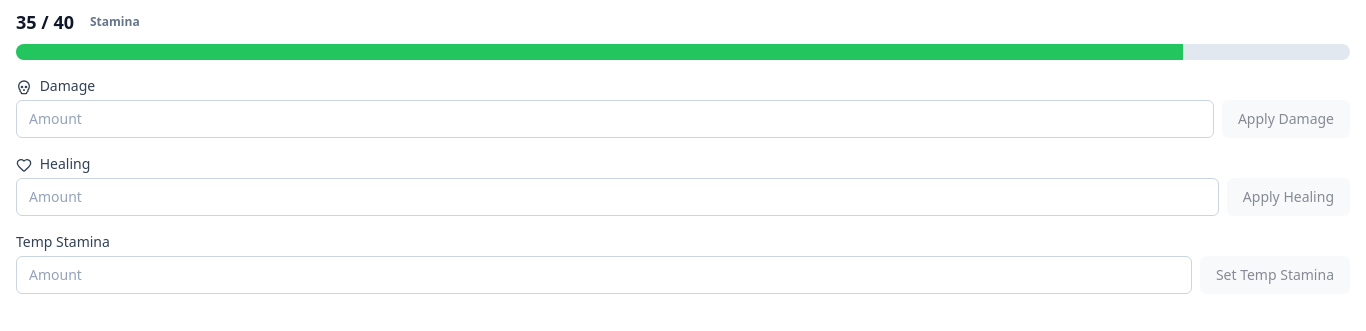
Test: HpTracker Component - Edge Cases › should prevent healing above max HP preview
The width and height of the screenshot is (1366, 331).
In the number field labelled "Healing": (617, 197) [16,178,1219,216], type "20"
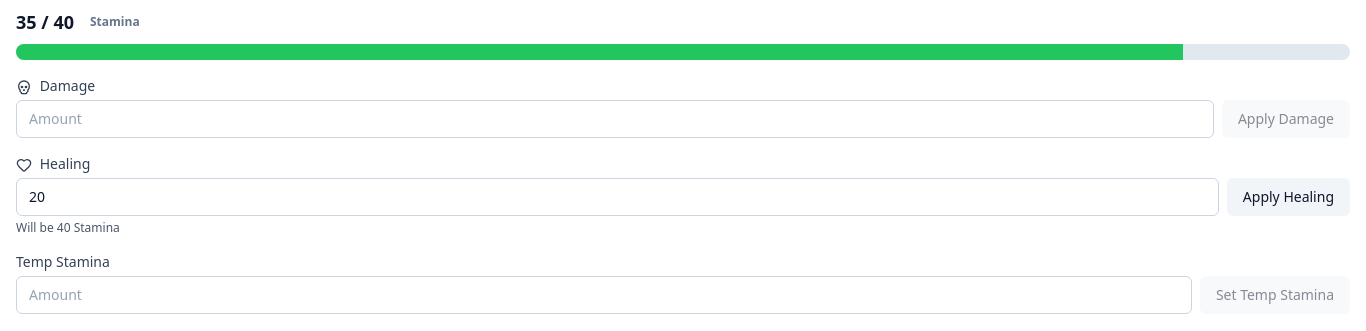
Expected: the text "Will be 40 Stamina" is shown, [16,219,120,236]
